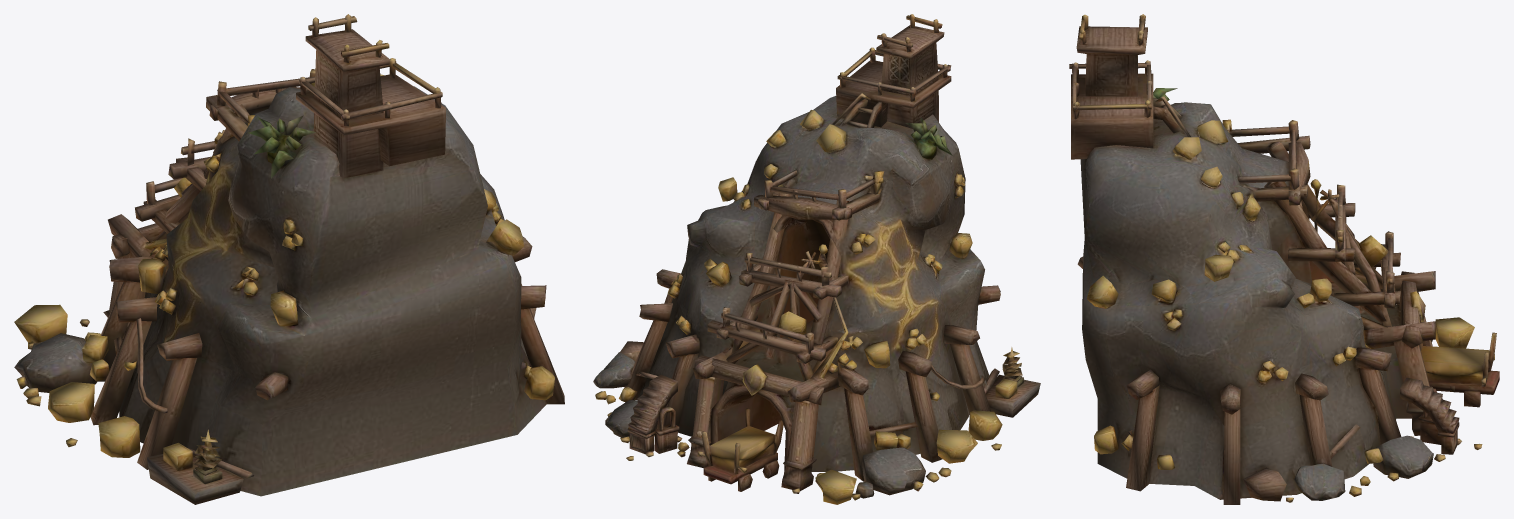
The model's file is gold_mine_lumevein.glb.
3 views of the same model, side by side, from view 1: azimuth 30°, elevation 25°; view 2: azimuth 150°, elevation 25°; view 3: azimuth 270°, elevation 25° (orthographic). The views are drawn at different scales.
Bounding box in the file's own units: 1.34 × 1.2 × 1.24.
Materials: 1 (1 with a texture image).
